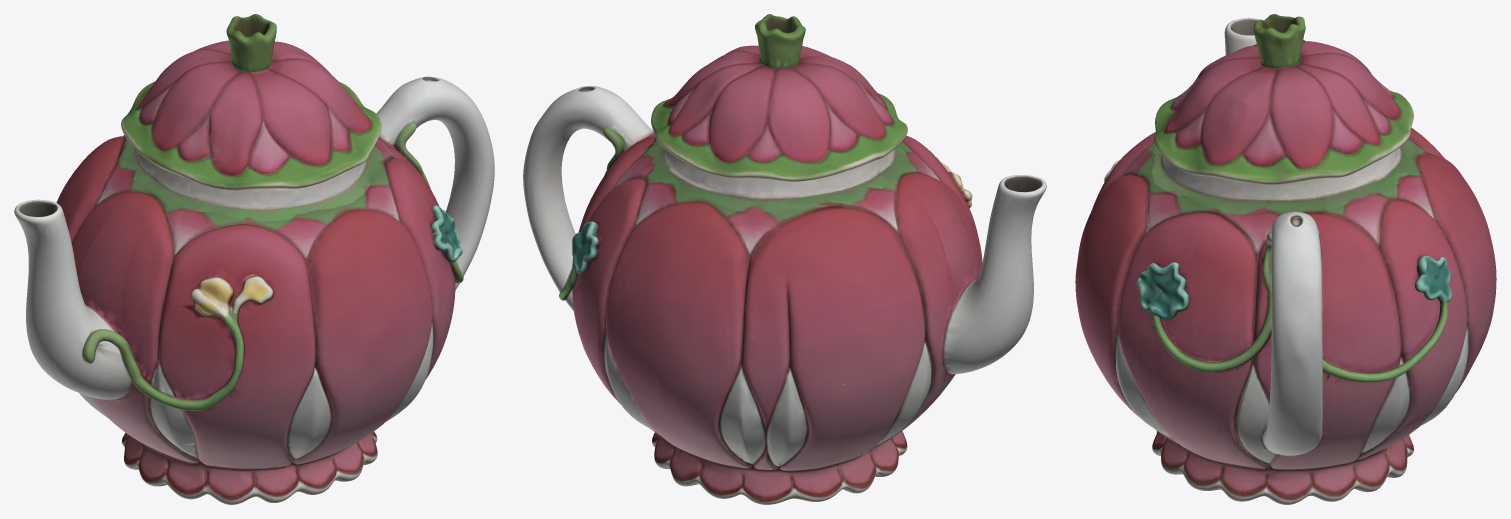
The model's file is 粉彩荷花壶.glb.
3 renders of one model, left to right at view 1: azimuth 30°, elevation 25°; view 2: azimuth 150°, elevation 25°; view 3: azimuth 270°, elevation 25°, orthographic.
Visible parts, largest first — view 1: tripo_node_f0c27411-8994-4df4-9612-134822b199b2; view 2: tripo_node_f0c27411-8994-4df4-9612-134822b199b2; view 3: tripo_node_f0c27411-8994-4df4-9612-134822b199b2.
Part boxes in pixels (x1,y1,x2,y2): tripo_node_f0c27411-8994-4df4-9612-134822b199b2: (14,14,494,504); tripo_node_f0c27411-8994-4df4-9612-134822b199b2: (523,14,1046,504); tripo_node_f0c27411-8994-4df4-9612-134822b199b2: (1075,14,1496,504).
Size of the model in its own units: 0.9795 by 0.8243 by 0.716.
Materials: 1 (1 with a texture image).
